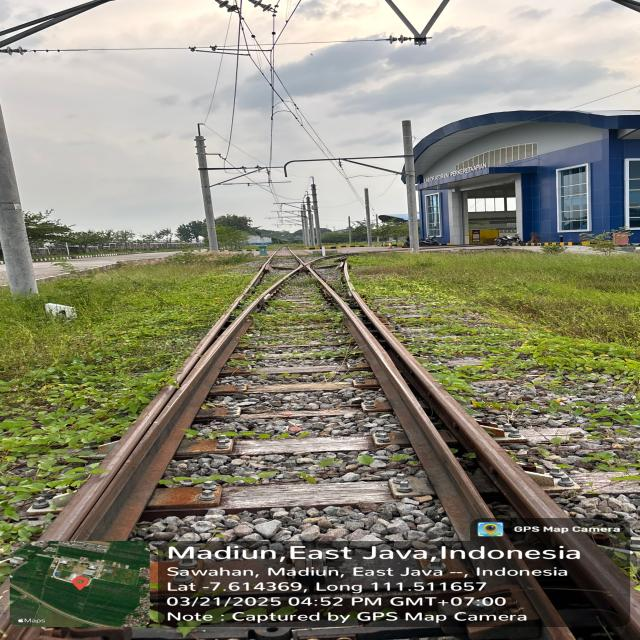rail-detection: (40, 281, 280, 541), (351, 289, 564, 518), (319, 280, 490, 540), (188, 260, 305, 383), (177, 260, 269, 382), (304, 264, 342, 304), (343, 261, 369, 310)
